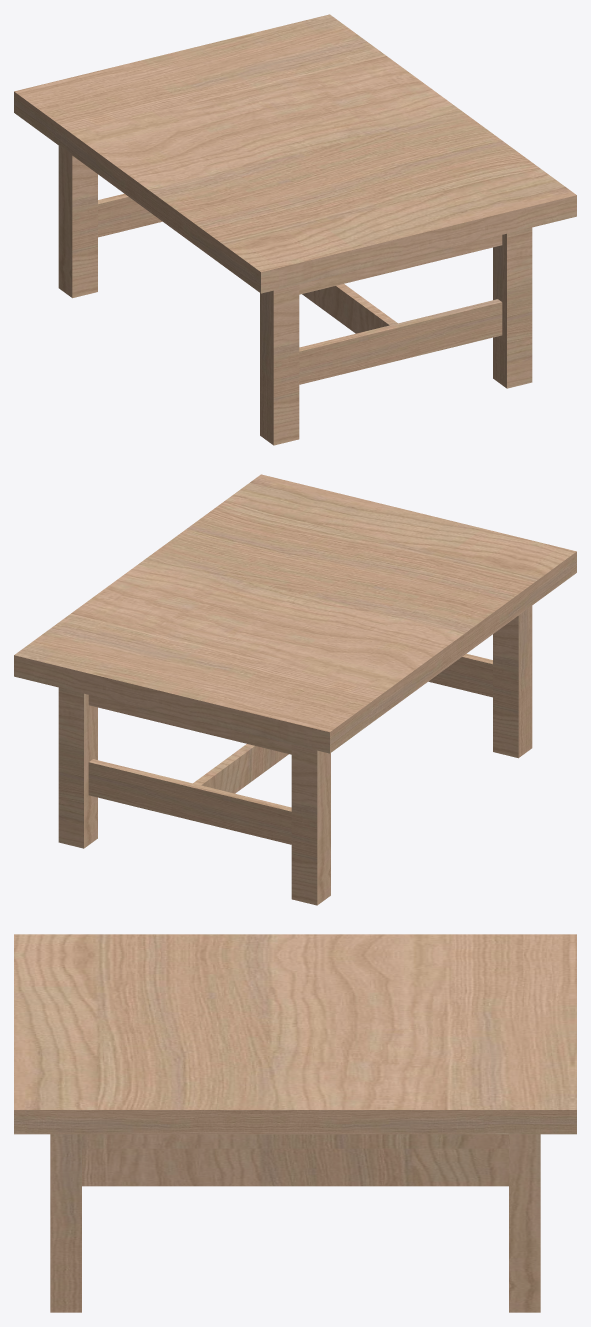
Rendered from Table.FBX.
3 renders of one model, top to bottom at view 1: azimuth 30°, elevation 25°; view 2: azimuth 150°, elevation 25°; view 3: azimuth 270°, elevation 25°, orthographic. The views are drawn at different scales.
Parts seen in each view (by area): view 1: Table; view 2: Table; view 3: Table.
Boxes of the visible parts, x1=… form: Table: x1=14, y1=14, x2=576, y2=445; Table: x1=14, y1=474, x2=576, y2=905; Table: x1=14, y1=934, x2=576, y2=1312.
Bounding box in the file's own units: 155 × 90 × 210.
1 material, 1 textured.
